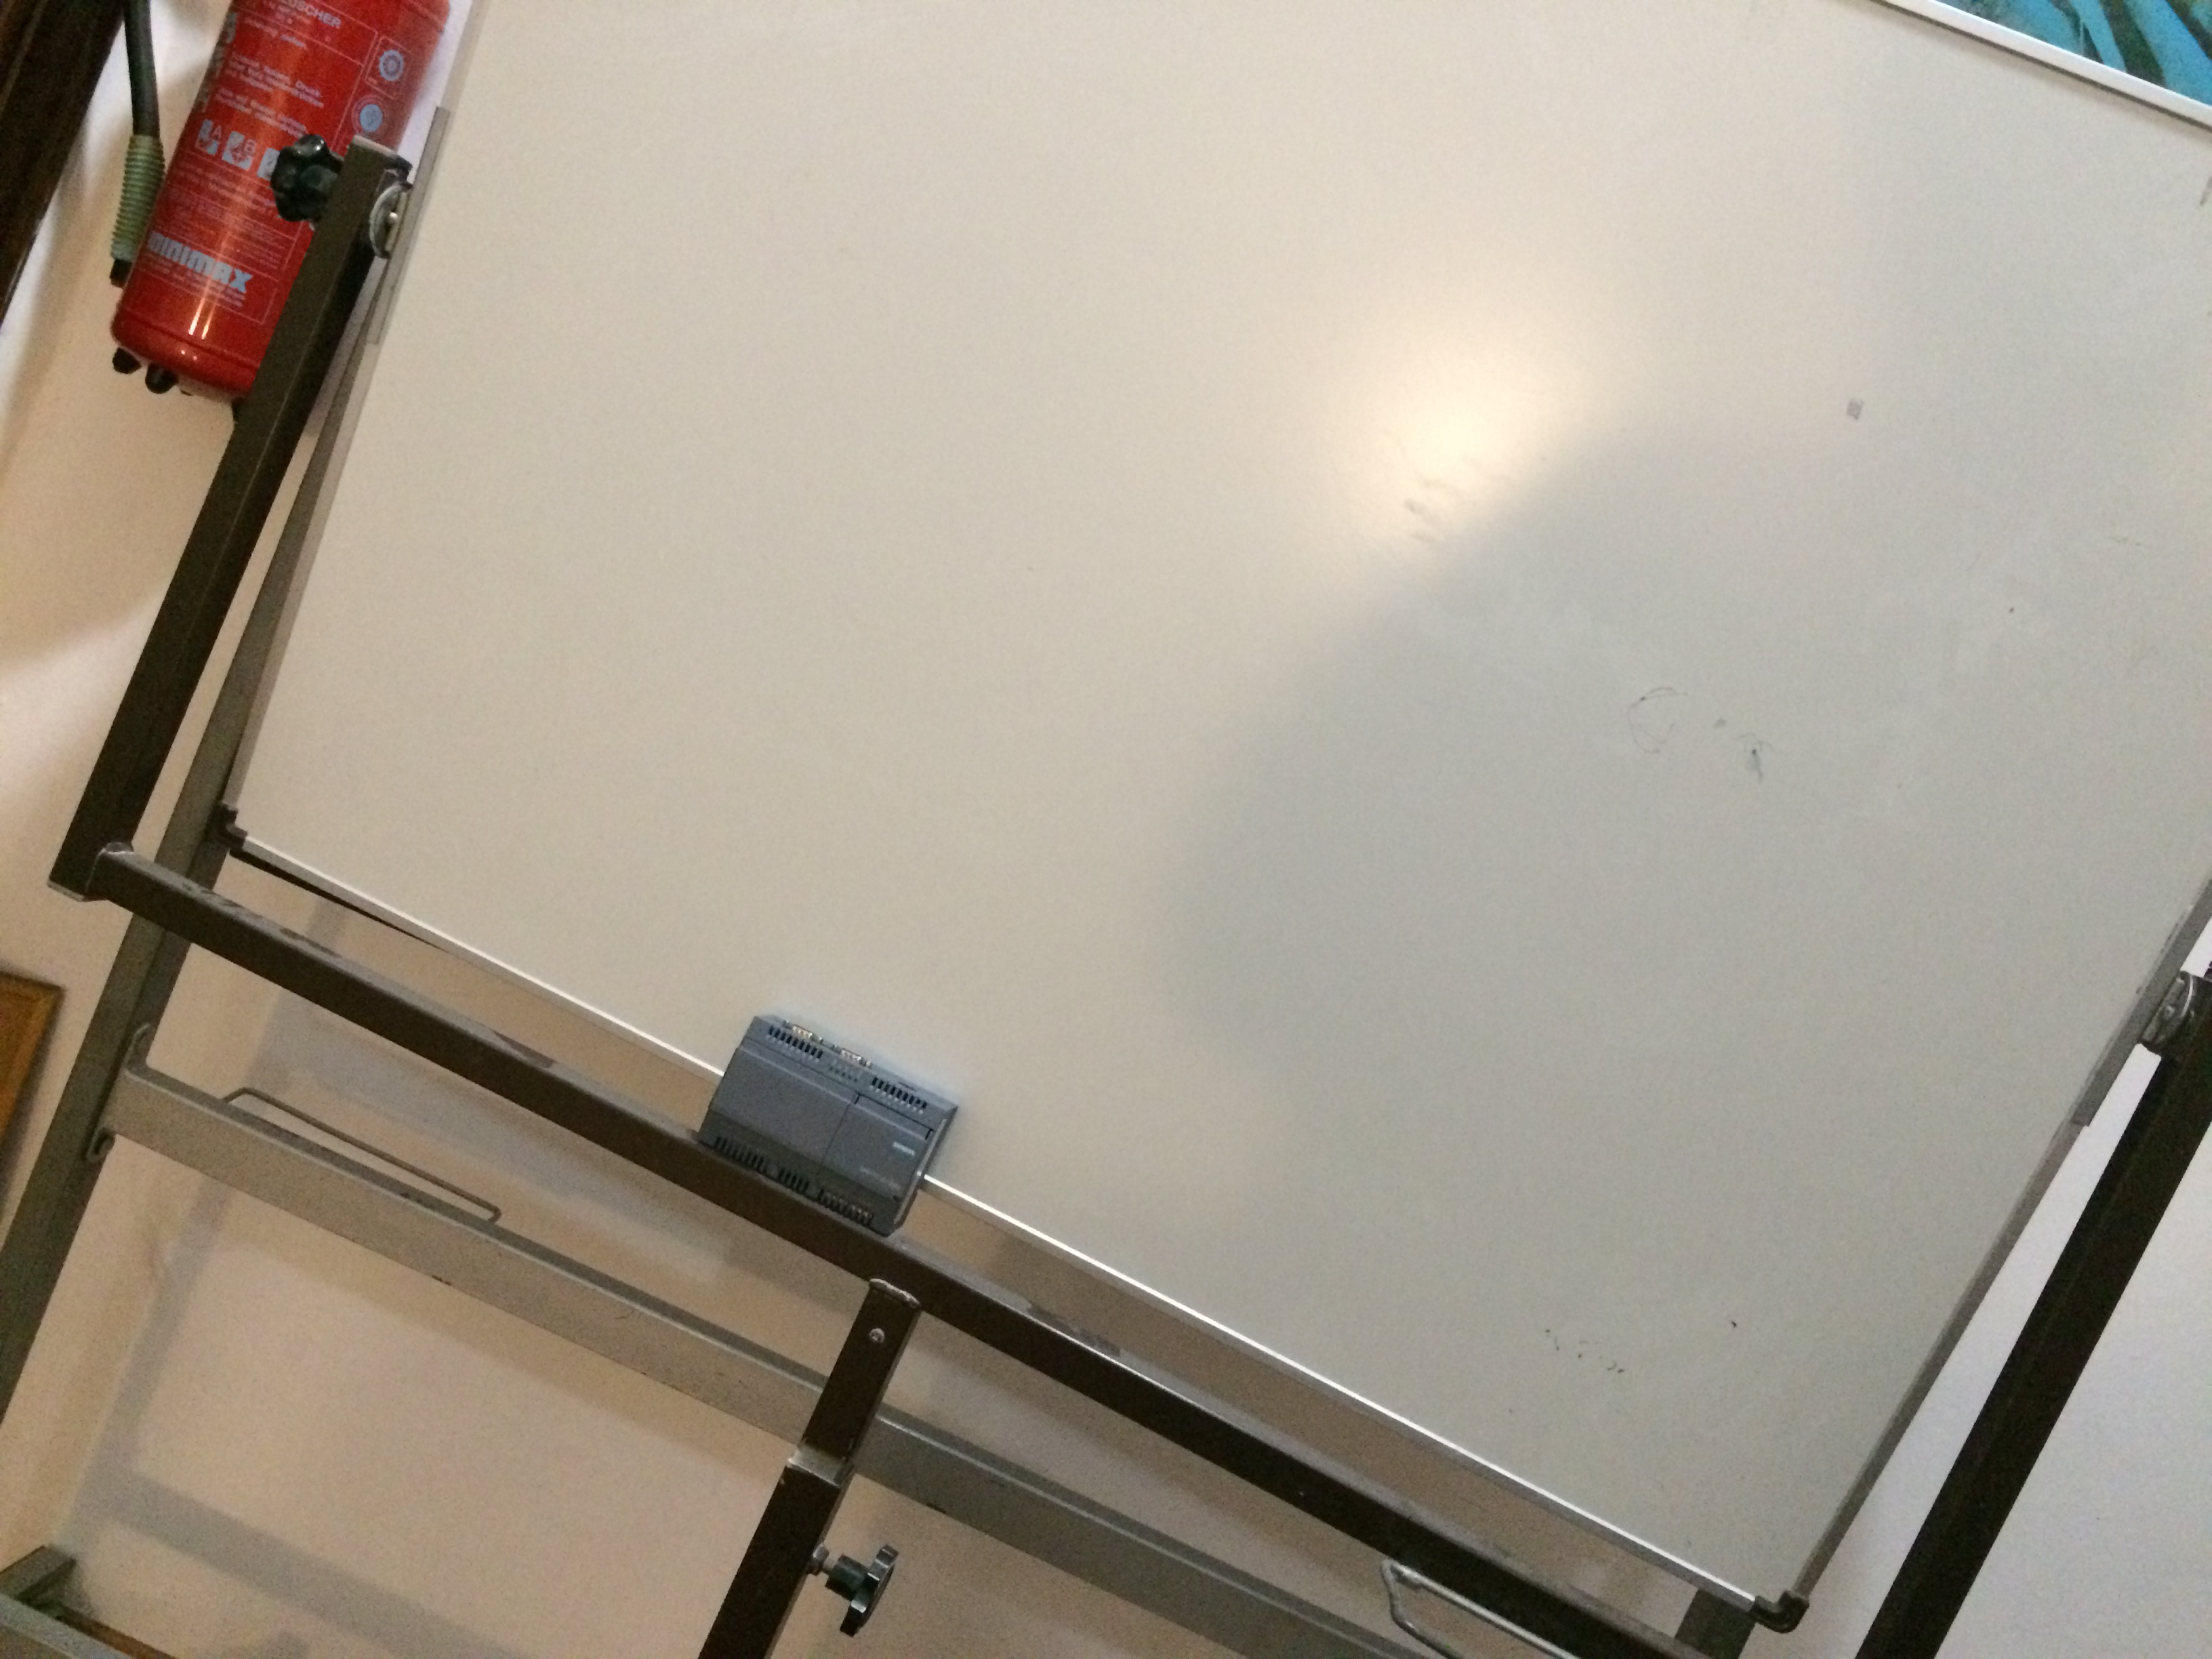iot2000: (695, 1007, 961, 1244)
